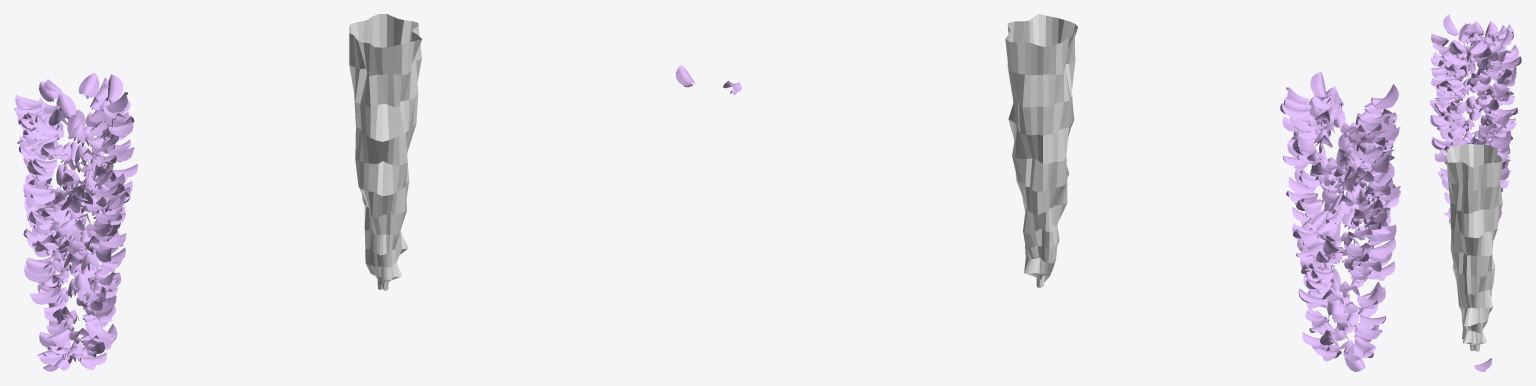
The model's file is wisteria.glb.
3 renders of one model, left to right at view 1: azimuth 30°, elevation 25°; view 2: azimuth 150°, elevation 25°; view 3: azimuth 270°, elevation 25°, orthographic. The views are drawn at different scales.
Parts seen in each view (by area): view 1: fuji2_4, Cylinder_3; view 2: fuji2_4, Cylinder_3; view 3: fuji2_4, Cylinder_3, Plane_2.
Part boxes in pixels (bbox=[...]): fuji2_4: bbox=[14, 72, 137, 371]; Cylinder_3: bbox=[349, 14, 422, 290]; fuji2_4: bbox=[1280, 71, 1400, 371]; Cylinder_3: bbox=[1005, 14, 1077, 287]; fuji2_4: bbox=[1429, 14, 1521, 223]; Cylinder_3: bbox=[1446, 144, 1502, 351]; Plane_2: bbox=[1474, 358, 1491, 371].
Size of the model in its own units: 2.2 by 0.876 by 0.3433.
